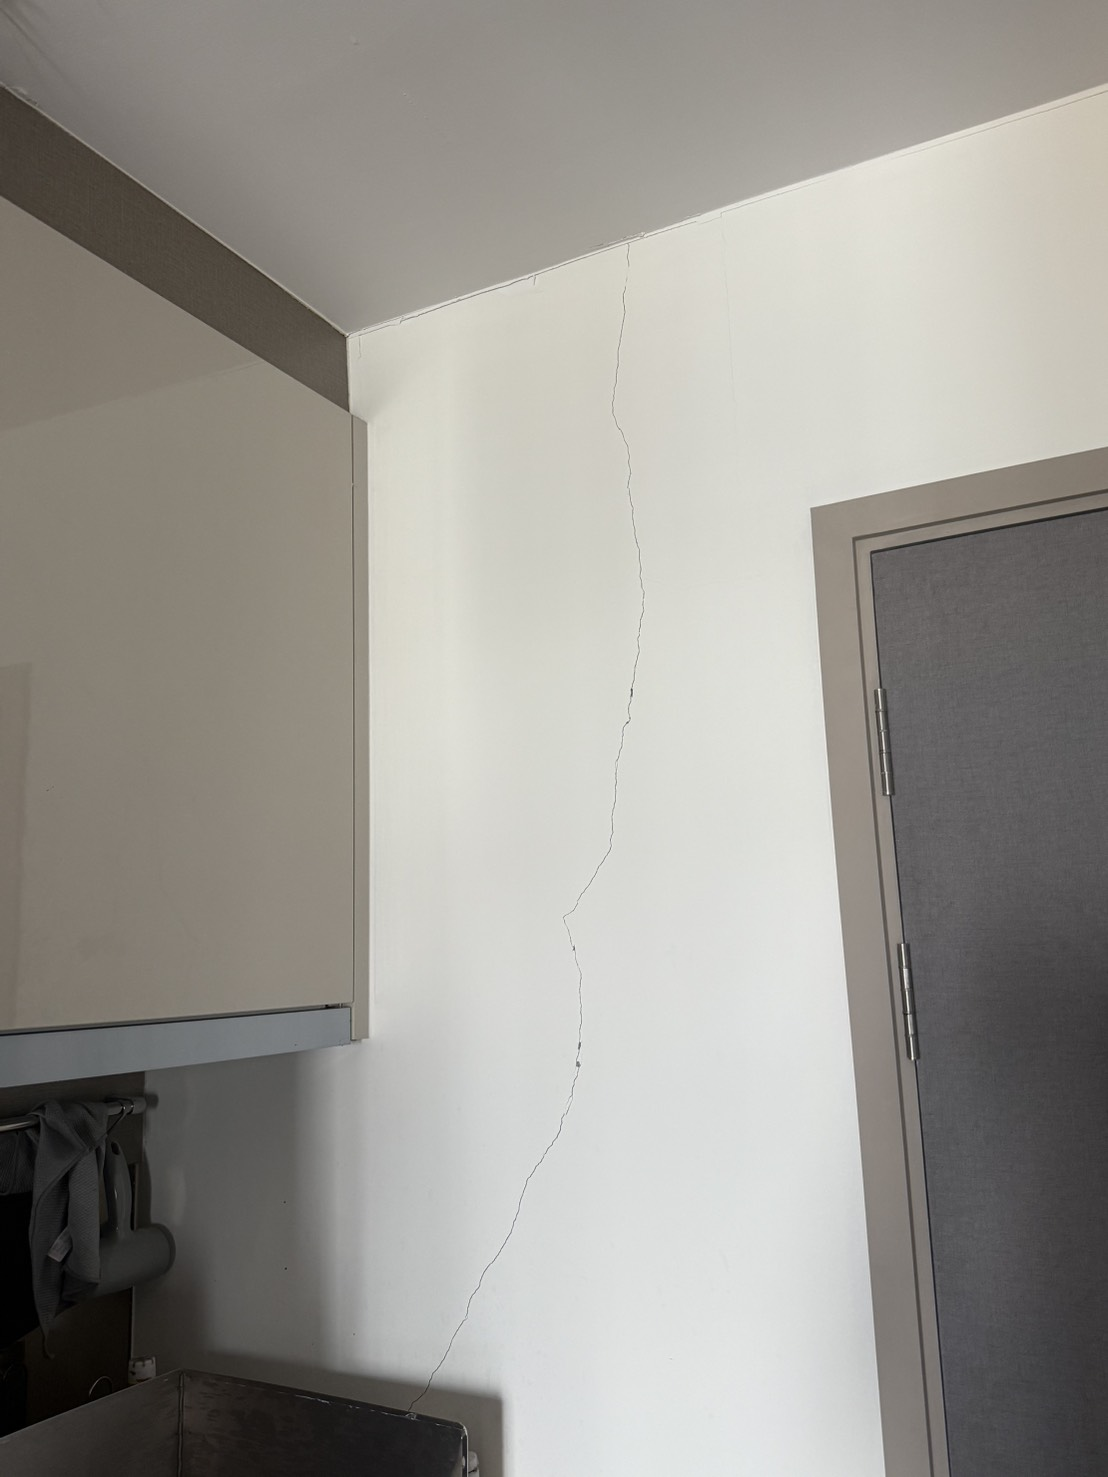Low: (406, 220, 709, 1413)
